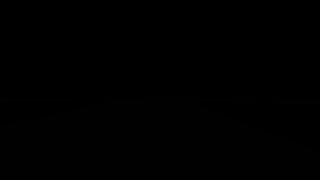go_ahead: (197, 64, 210, 77)
